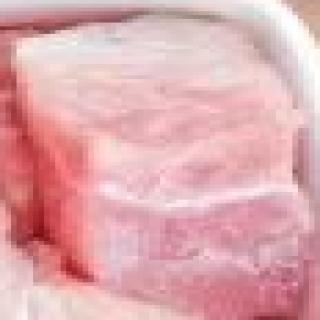pork: (0, 4, 320, 320)
